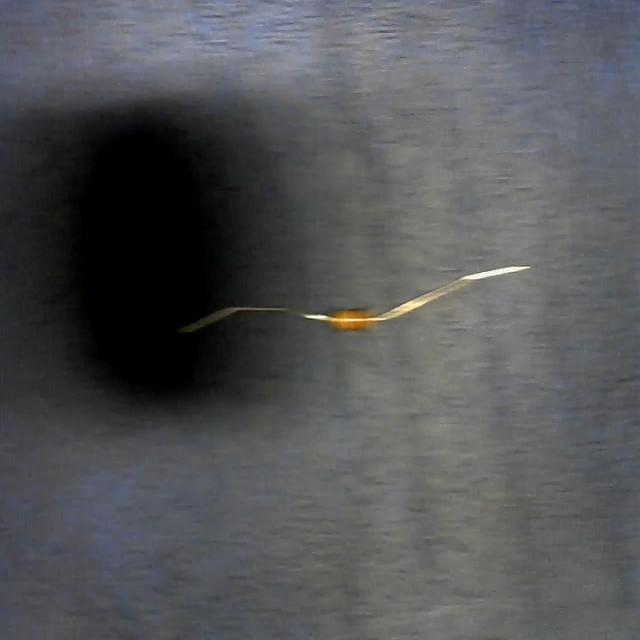resistor: (192, 264, 530, 334)
